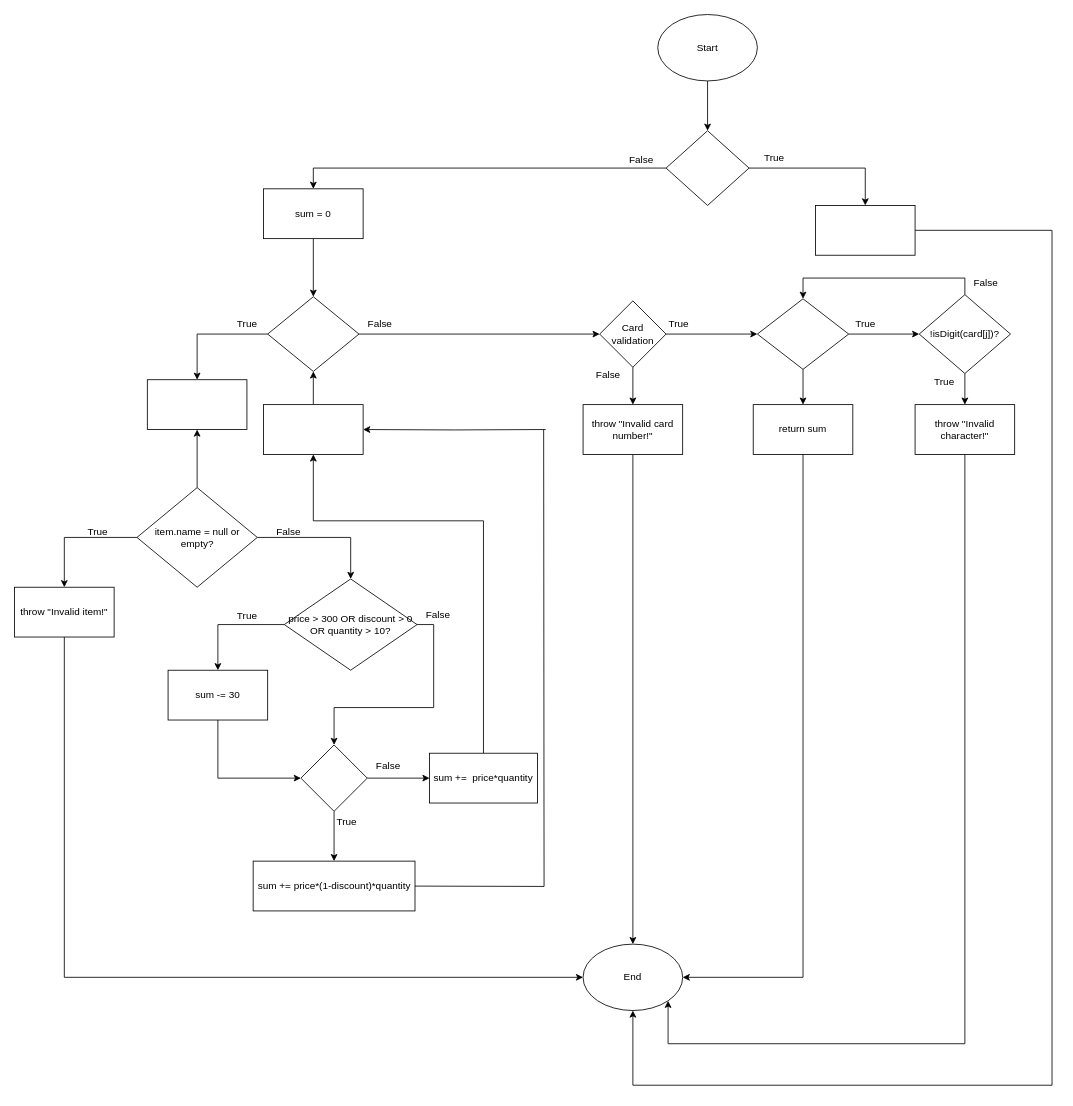
Image size: 1073x1106. Some labels were removed from this diagram. Each missing label, with the centre of its shape:
allItems == null?: pixel 707 167
discount > 0: pixel 333 777
i < allItems.size()?: pixel 313 333
item = allItems.get(i): pixel 196 404
j < card.length()?: pixel 803 333
Next item: pixel 313 429
Throw "allItems list can't be null!": pixel 865 230
